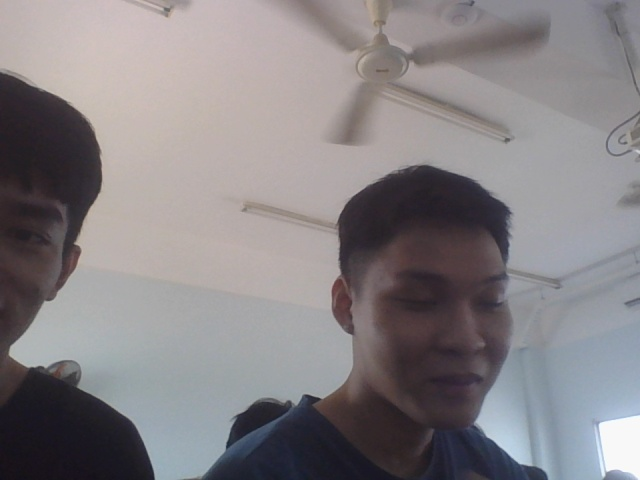real: (325, 153, 533, 448)
